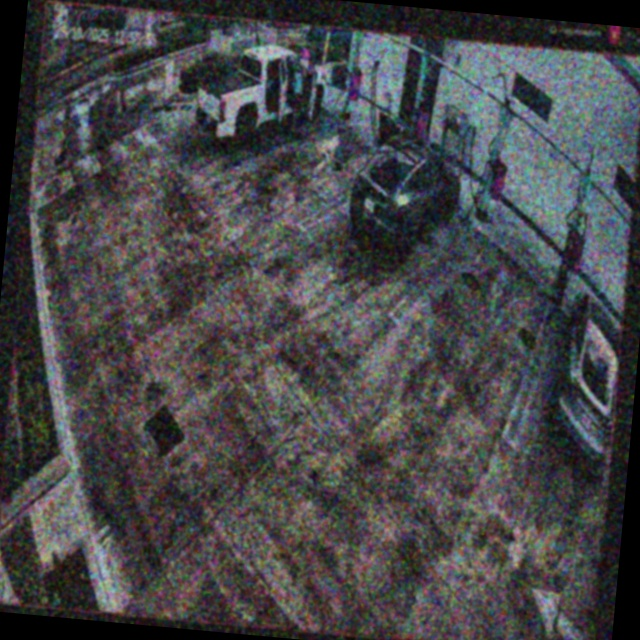Car: (347, 111, 466, 266)
